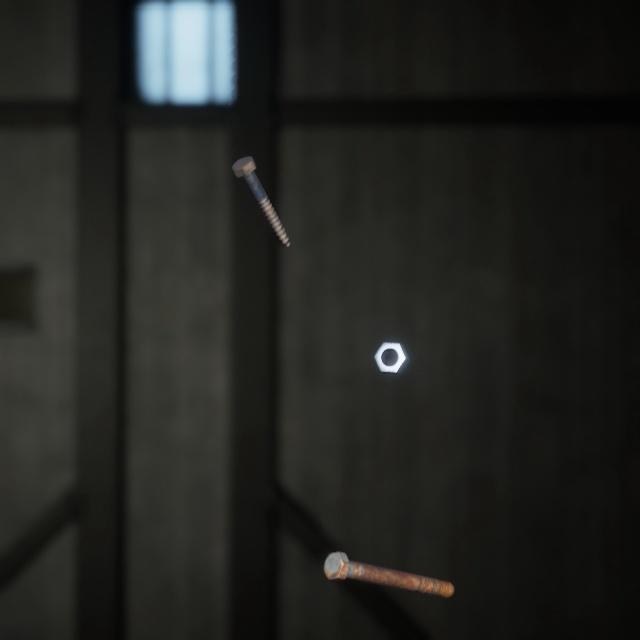bolt: (319, 524, 458, 580), (228, 136, 294, 236)
nut: (369, 319, 414, 360)
